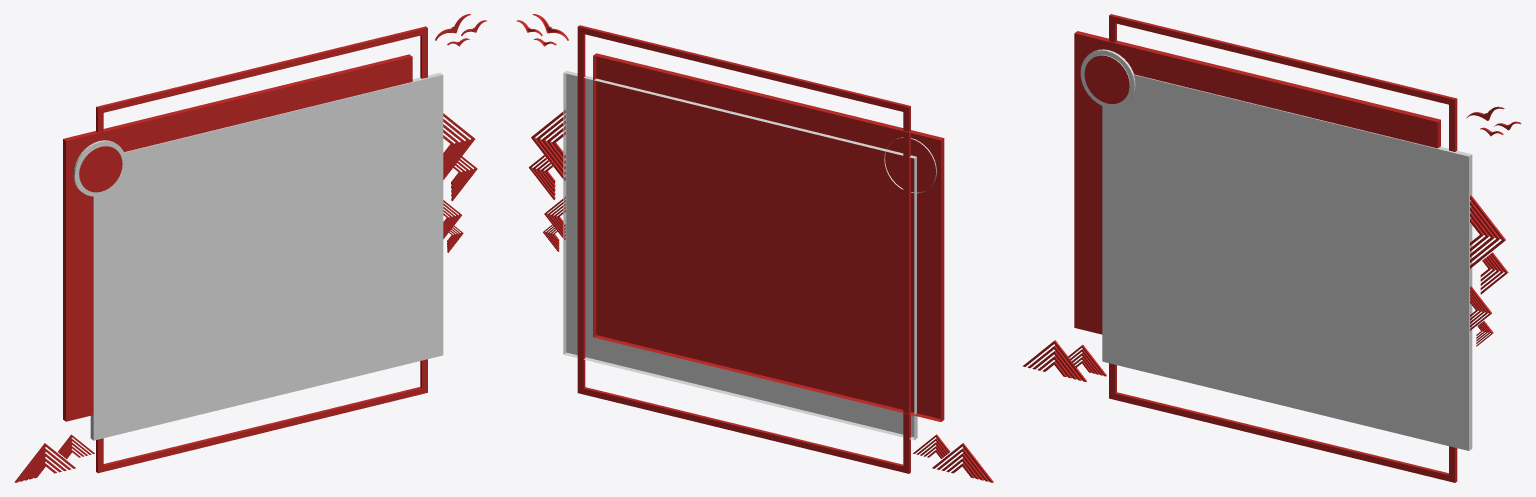
3 renders of one model, left to right at view 1: azimuth 30°, elevation 25°; view 2: azimuth 150°, elevation 25°; view 3: azimuth 330°, elevation 25°, orthographic. The views are drawn at different scales.
Visible parts, largest first — view 1: Cylinder; view 2: Cylinder; view 3: Cylinder.
Part boxes in pixels (x1,y1,x2,y2): Cylinder: (14,14,486,482); Cylinder: (516,14,993,482); Cylinder: (1022,14,1521,482).
Size of the model in its own units: 603 by 446 by 10.92.
